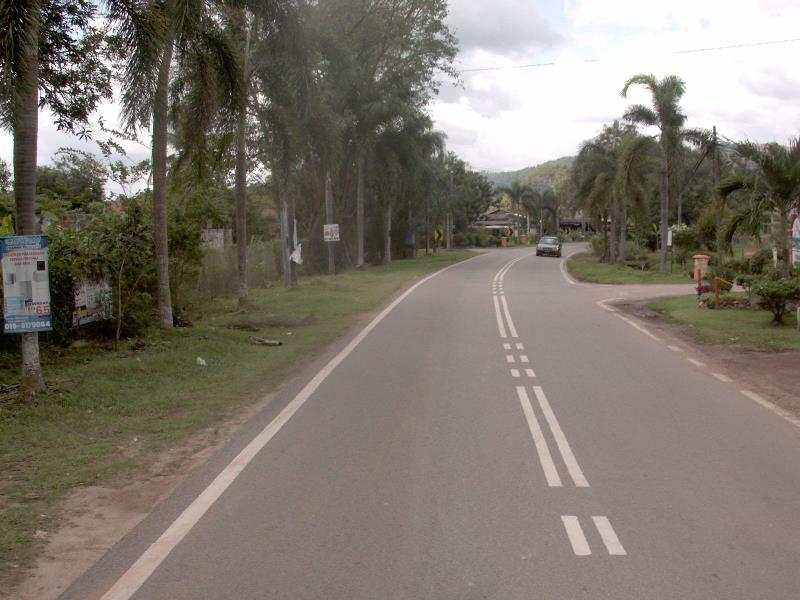ads_sign: (1, 226, 60, 339)
